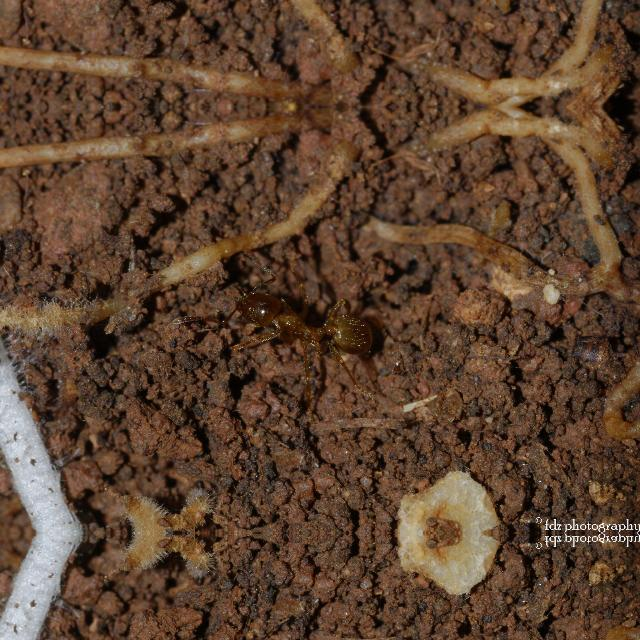Apheanogaster: (208, 274, 390, 366)
